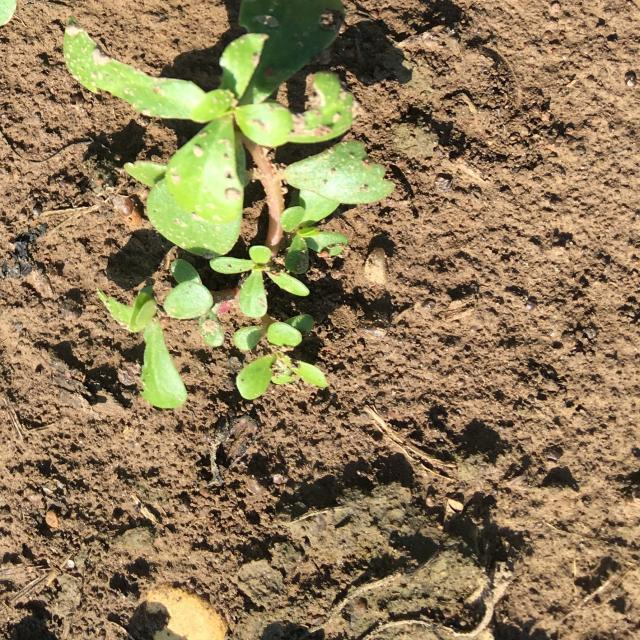Purslane: (63, 0, 395, 408)
